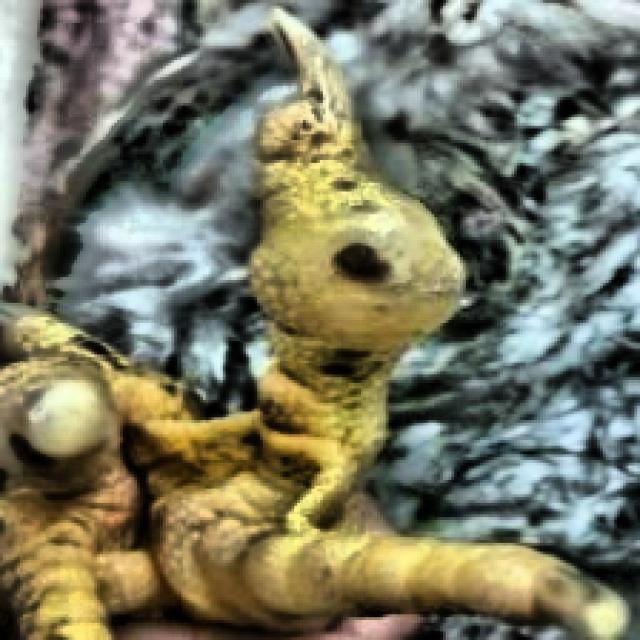Bumble foot: (0, 2, 631, 637)
